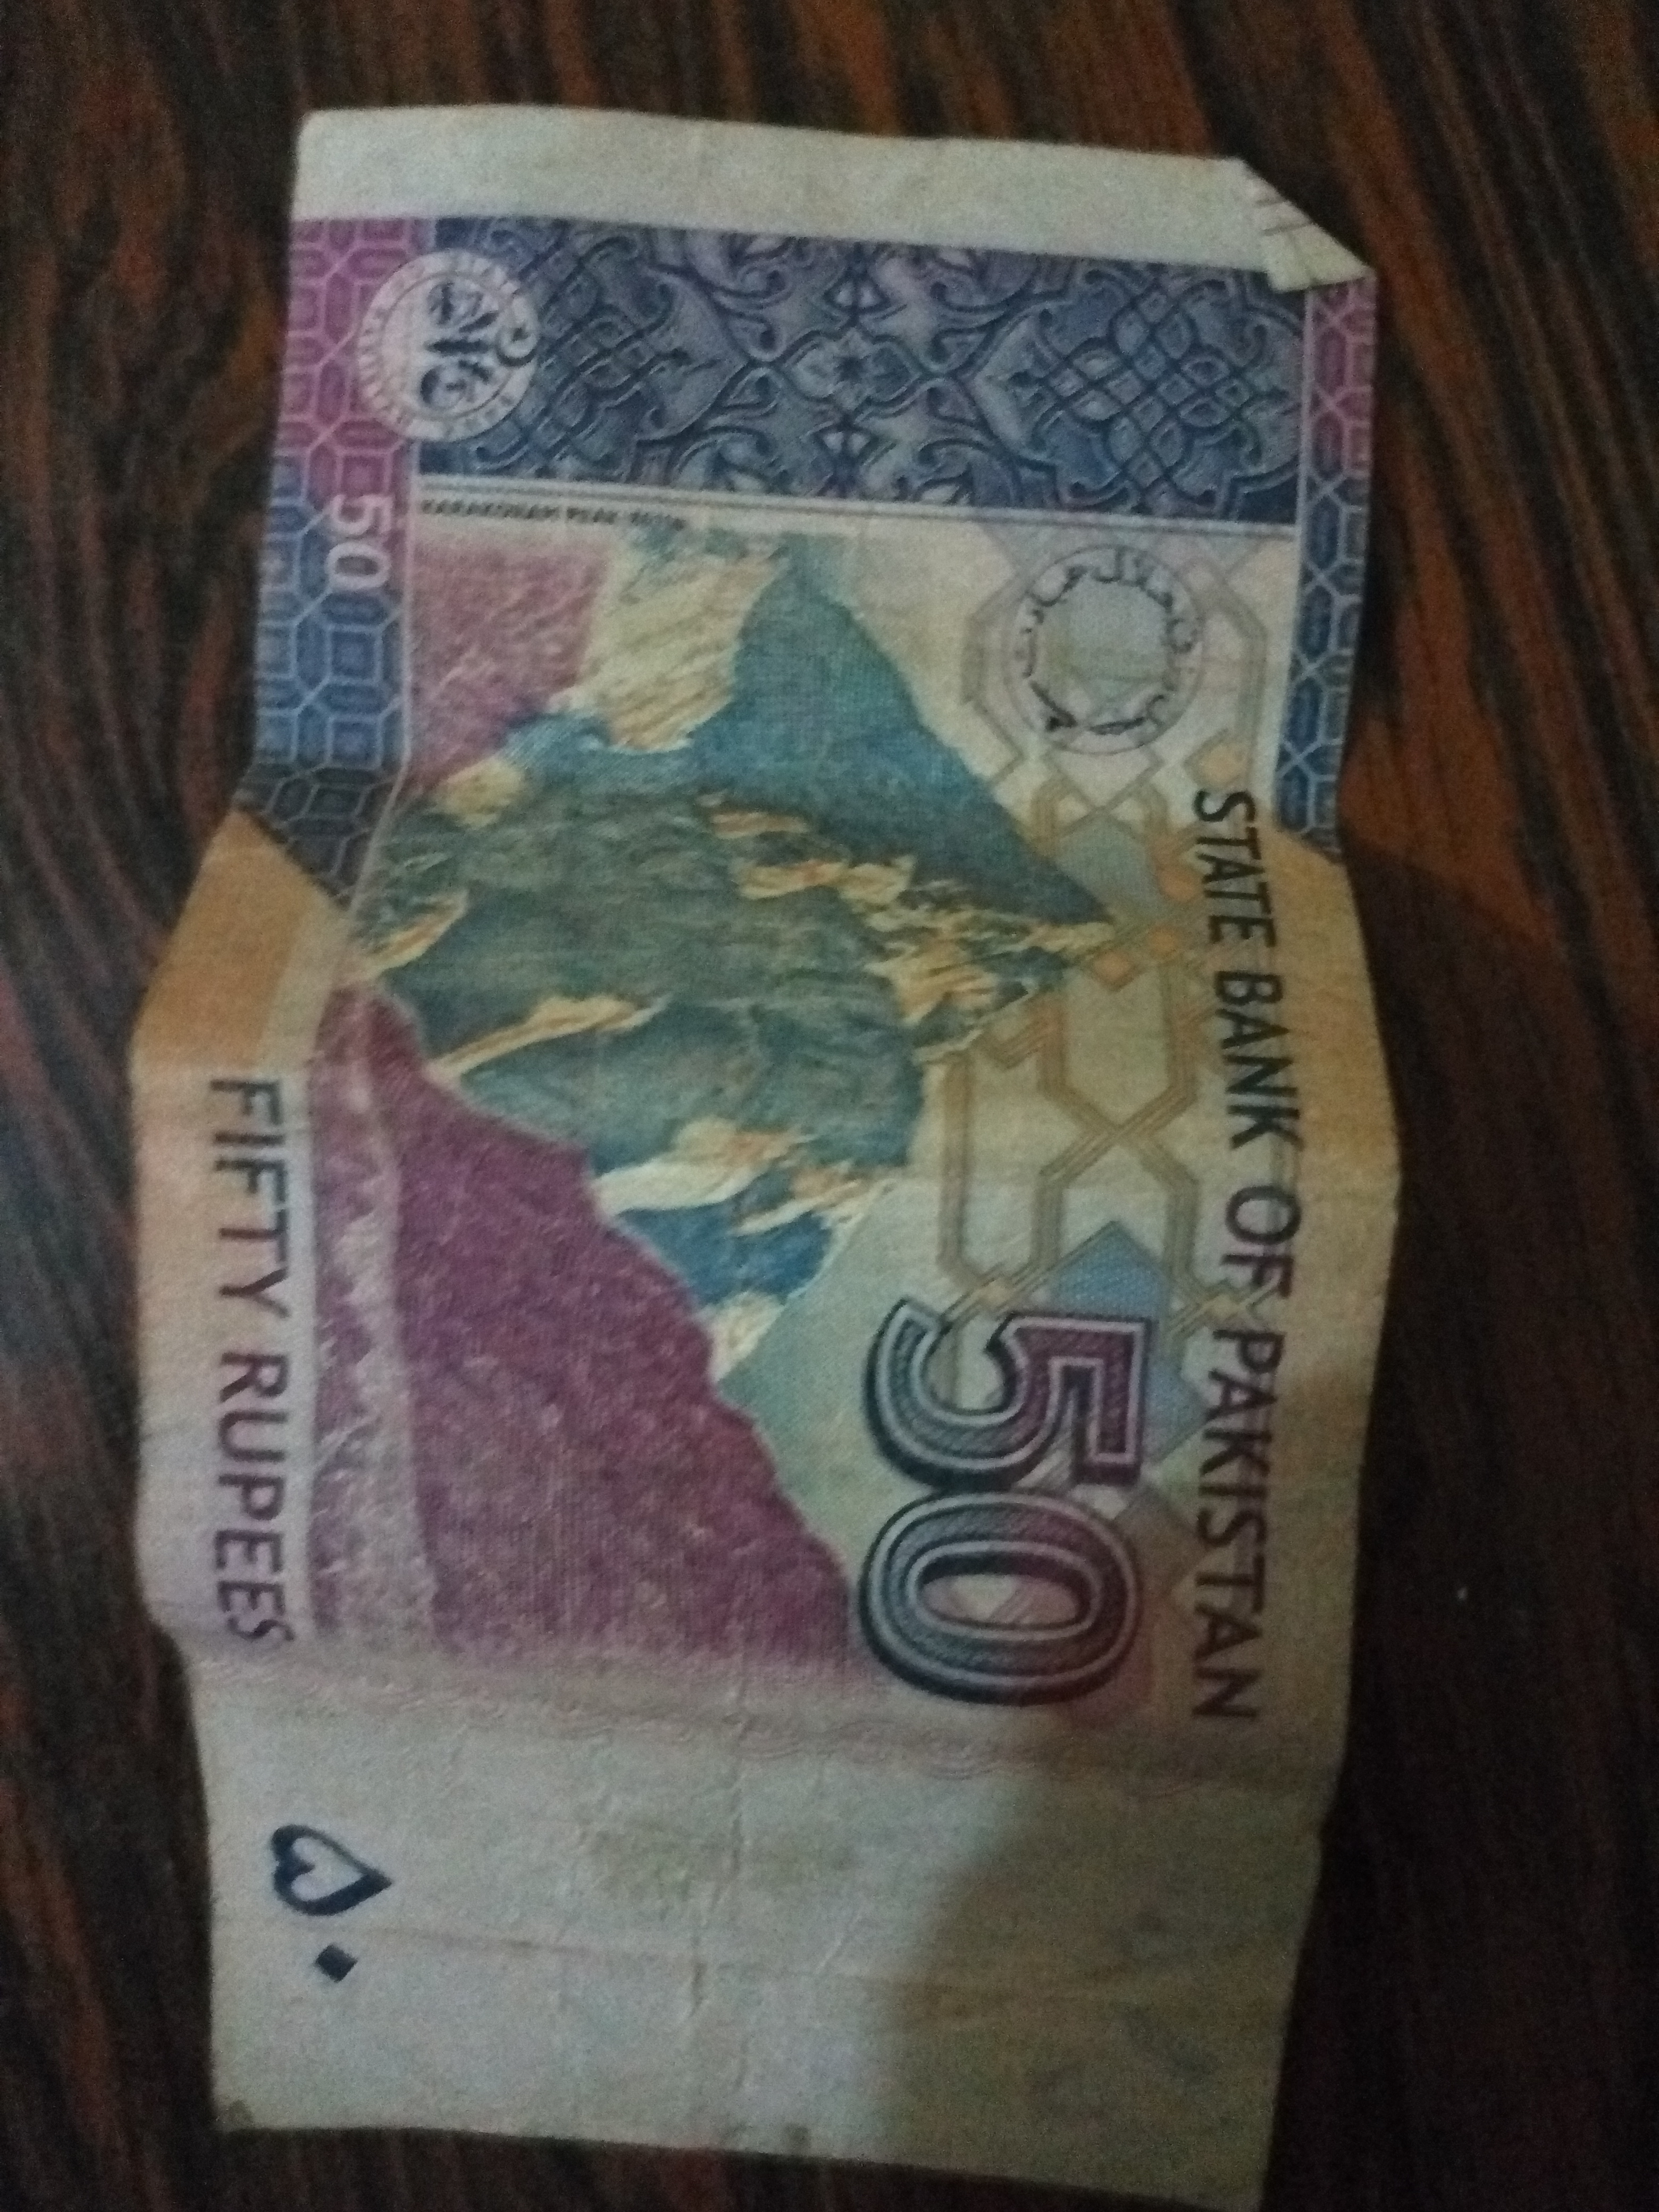50 rupee: (138, 80, 1413, 2193)
